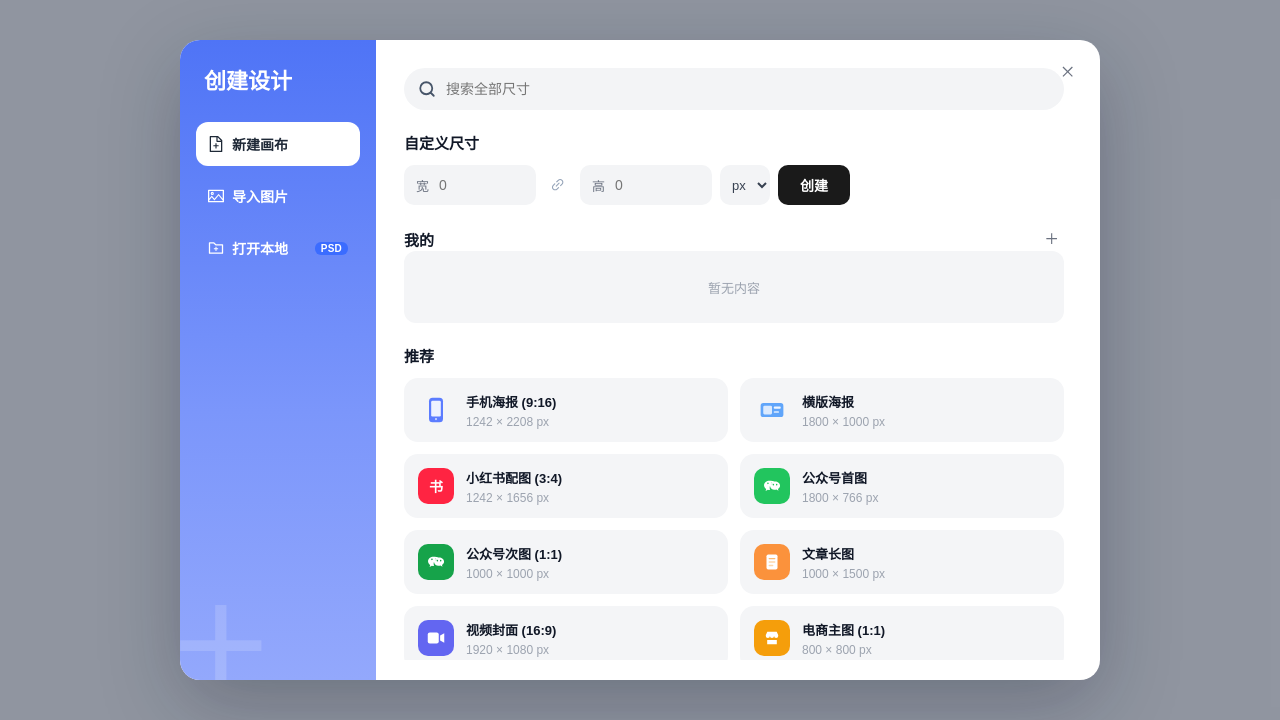
CreateCanvasModal › filters recommended presets by search keyword
In the search field with placeholder "搜索全部尺寸": {"x": 747, "y": 89} [444, 80, 1050, 98], type "公众号"
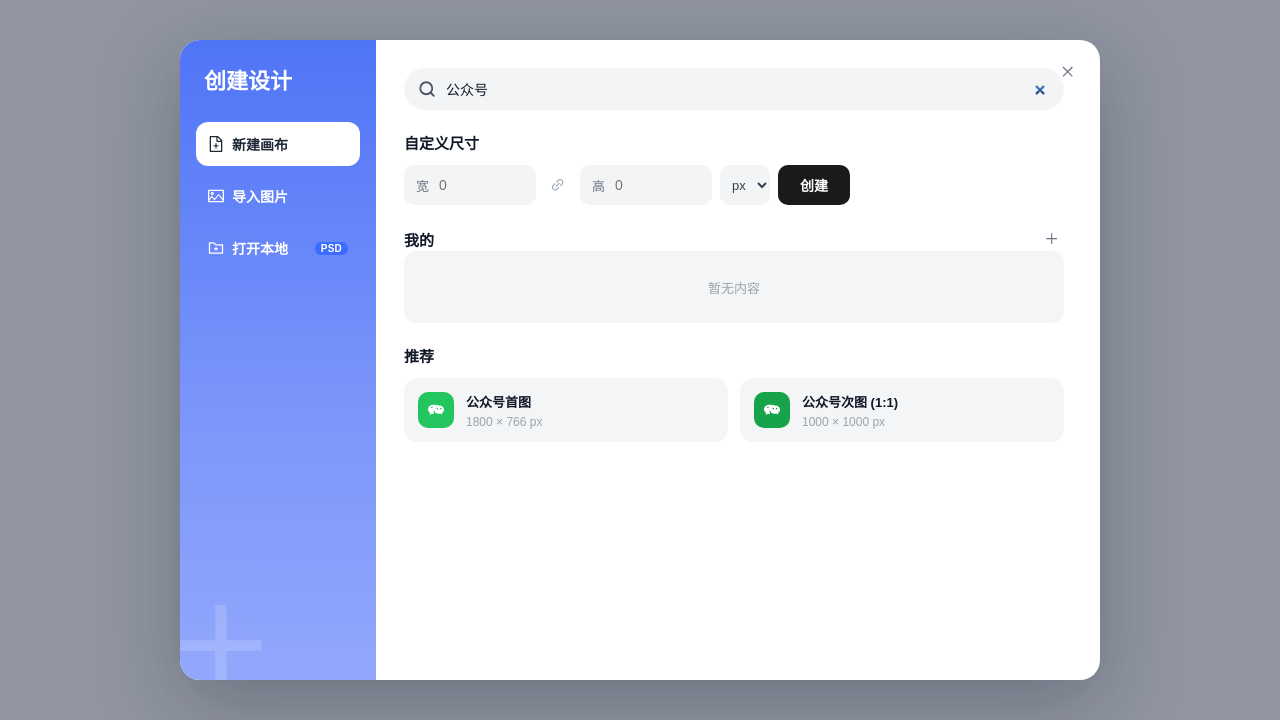
Expected: the button "公众号首图 1800 × 766 px" is shown, [404, 378, 728, 442]
Expected: the button "手机海报" is gone
